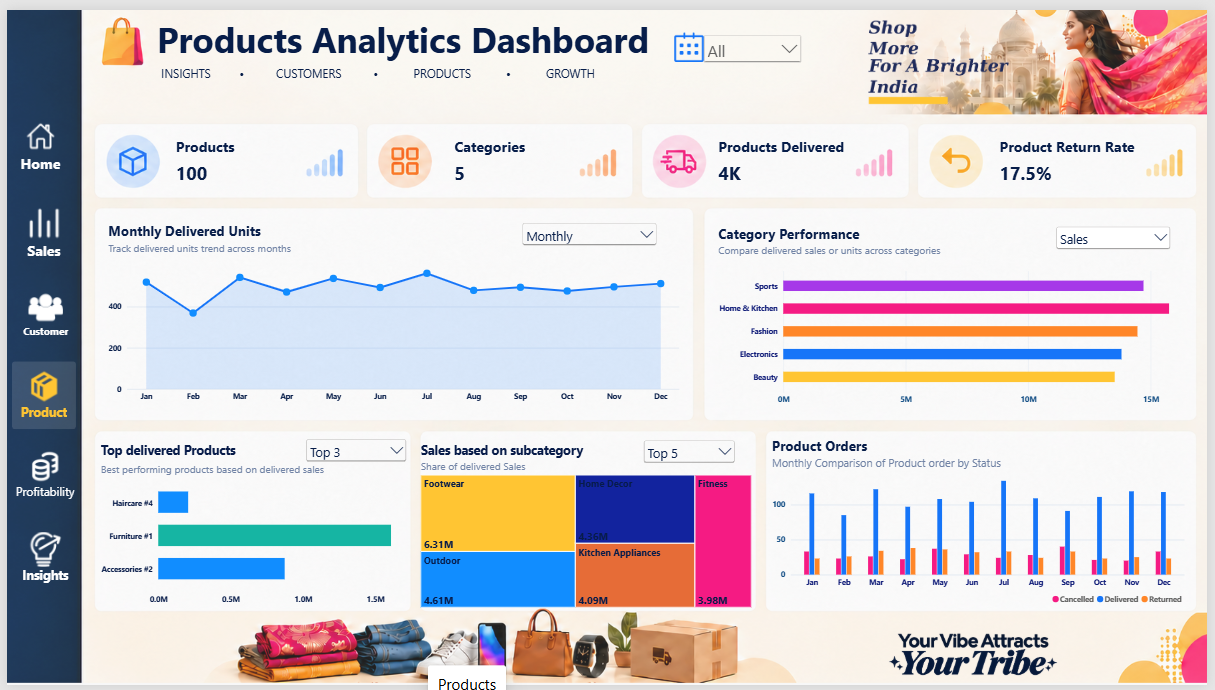

The page's visual inventory and layout, read from the dashboard file:
{"tool":"powerbi","page":{"name":"Products","canvas":[1920,1080],"ordinal":3},"visuals":[{"type":"actionButton","box":[8.8,821.2,102.5,111.2],"z":0},{"type":"actionButton","box":[0,685,120,115],"z":1000},{"type":"actionButton","box":[8.9,433.3,102.2,106.7],"z":2000},{"type":"actionButton","box":[8.9,164.4,91.1,108.9],"z":3000},{"type":"actionButton","box":[8.9,562.2,102.2,108.9],"z":4000},{"type":"actionButton","box":[8.9,304.4,102.2,106.7],"z":5000},{"type":"cardVisual","fields":{"Data":["3_Product_Analytics.Products"]},"box":[253.4,188.2,231.6,106.8],"z":6000},{"type":"cardVisual","fields":{"Data":["3_Product_Analytics.Categories"]},"box":[700,188,231.6,106.8],"z":7000},{"type":"cardVisual","fields":{"Data":["3_Product_Analytics.Product Delivered Units"]},"box":[1122,188,242,106],"z":8000},{"type":"cardVisual","fields":{"Data":["3_Product_Analytics.Product Return Rate"]},"box":[1572,188,254,106],"z":9000},{"type":"textbox","box":[240,8,795.5,114],"z":10000},{"type":"image","box":[1377.8,982.2,331.1,97.8],"z":11000},{"type":"image","box":[1377.8,8.9,224.4,137.8],"z":12000},{"type":"image","box":[1330,76,224.4,137.8],"z":13000},{"type":"areaChart","title":"Monthly Delivered Units","fields":{"Category":["3_Product_Analytics.Monthly"],"Y":["Sum(3_Product_Analytics.Quantity)"]},"box":[145.4,323.5,945.9,323.5],"z":14000},{"type":"slicer","fields":{"Values":["View by.View by"]},"box":[820,336,224,48],"z":15000},{"type":"clusteredBarChart","title":"Category Performance","fields":{"Category":["3_Product_Analytics.Category"],"Y":["1_Sales_Analytics.Delivered Sales"]},"box":[1121.9,327.6,775.9,323.5],"z":16000},{"type":"slicer","fields":{"Values":["Category Metric.Category Metric"]},"box":[1674.7,341.9,192.5,45],"z":17000},{"type":"clusteredBarChart","title":"Top delivered Products","fields":{"Category":["3_Product_Analytics.Product Short Name"],"Y":["Sum(3_Product_Analytics.Net_Sales)"]},"box":[134.3,675.7,511.4,295.7],"z":18000},{"type":"slicer","fields":{"Values":["Top Products.Show"]},"box":[474,682,170,46],"z":19000},{"type":"treemap","title":"Sales based on subcategory","fields":{"Group":["3_Product_Analytics.Subcategory"],"Values":["Sum(3_Product_Analytics.Net_Sales)"]},"box":[645.7,676.1,560.9,295.7],"z":20000},{"type":"slicer","fields":{"Values":["Top Subcategories.Show"]},"box":[1013,683,155,44],"z":21000},{"type":"clusteredColumnChart","title":"Product Orders","fields":{"Category":["3_Product_Analytics.Monthly"],"Series":["3_Product_Analytics.Order_Status"],"Y":["Count(3_Product_Analytics.Order_ID)"]},"box":[1208,668,692,304],"z":22000},{"type":"slicer","fields":{"Values":["3_Product_Analytics.Order_Date.Variation.Date Hierarchy.Year"]},"box":[1110.5,35.5,165.5,49.5],"z":23000},{"type":"image","box":[1065,36,50,47.5],"z":24000}]}

Visuals, with their boxes on the page's 1920x1080 design canvas (x1, y1, x2, y2). These are canvas units, not pixel positions in the 1215x690 screenshot, which may show the page scaled, cropped or inside an application window:
actionButton: bbox(9, 821, 111, 932)
actionButton: bbox(0, 685, 120, 800)
actionButton: bbox(9, 433, 111, 540)
actionButton: bbox(9, 164, 100, 273)
actionButton: bbox(9, 562, 111, 671)
actionButton: bbox(9, 304, 111, 411)
cardVisual - 3_Product_Analytics.Products: bbox(253, 188, 485, 295)
cardVisual - 3_Product_Analytics.Categories: bbox(700, 188, 932, 295)
cardVisual - 3_Product_Analytics.Product Delivered Units: bbox(1122, 188, 1364, 294)
cardVisual - 3_Product_Analytics.Product Return Rate: bbox(1572, 188, 1826, 294)
textbox: bbox(240, 8, 1036, 122)
image: bbox(1378, 982, 1709, 1080)
image: bbox(1378, 9, 1602, 147)
image: bbox(1330, 76, 1554, 214)
"Monthly Delivered Units" areaChart: bbox(145, 324, 1091, 647)
slicer - View by.View by: bbox(820, 336, 1044, 384)
"Category Performance" clusteredBarChart: bbox(1122, 328, 1898, 651)
slicer - Category Metric.Category Metric: bbox(1675, 342, 1867, 387)
"Top delivered Products" clusteredBarChart: bbox(134, 676, 646, 971)
slicer - Top Products.Show: bbox(474, 682, 644, 728)
"Sales based on subcategory" treemap: bbox(646, 676, 1207, 972)
slicer - Top Subcategories.Show: bbox(1013, 683, 1168, 727)
"Product Orders" clusteredColumnChart: bbox(1208, 668, 1900, 972)
slicer - 3_Product_Analytics.Order_Date.Variation.Date Hierarchy.Year: bbox(1110, 36, 1276, 85)
image: bbox(1065, 36, 1115, 84)
